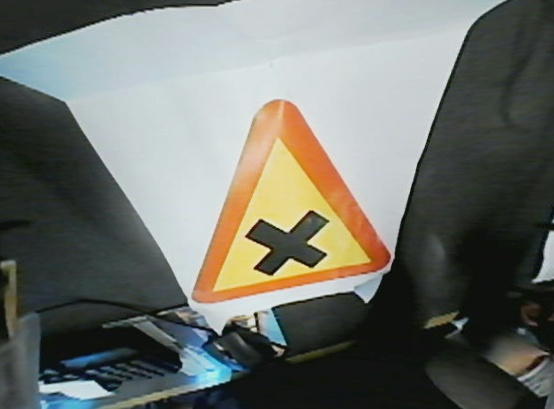junction: (195, 98, 396, 304)
